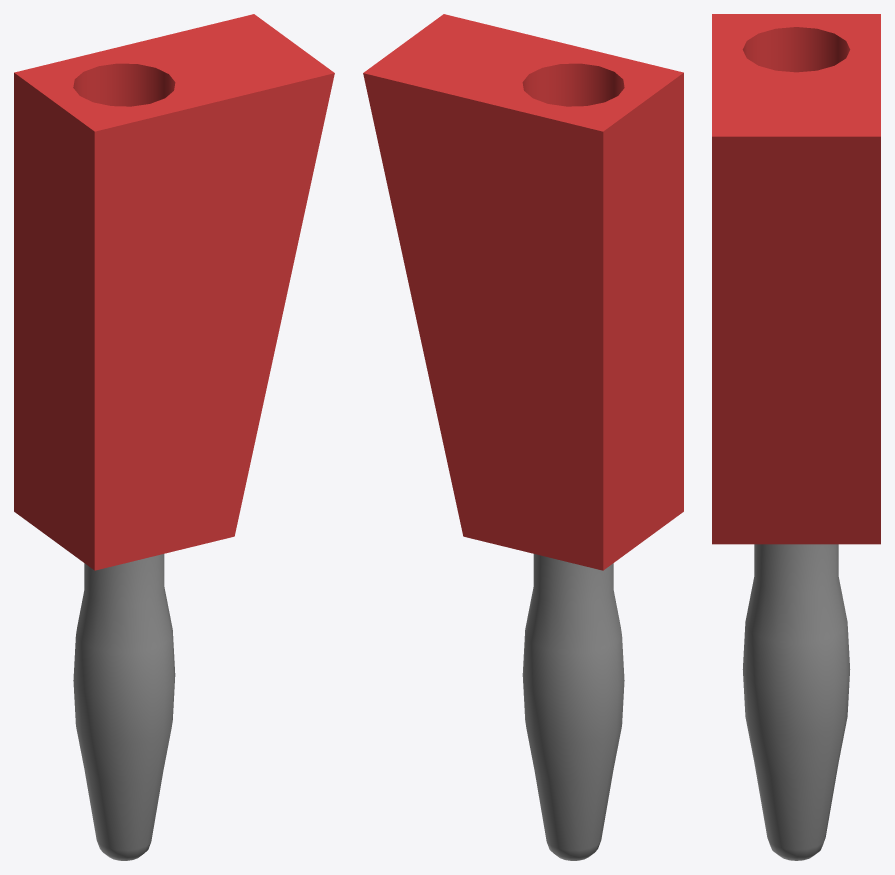
File: штекер.fbx
3 renders of one model, left to right at view 1: azimuth 30°, elevation 25°; view 2: azimuth 150°, elevation 25°; view 3: azimuth 270°, elevation 25°, orthographic. The views are drawn at different scales.
Visible parts, largest first — view 1: Cube; view 2: Cube; view 3: Cube.
Boxes of the visible parts, x1=… form: Cube: x1=14, y1=14, x2=334, y2=860; Cube: x1=363, y1=14, x2=683, y2=860; Cube: x1=712, y1=14, x2=880, y2=860.
Size of the model in its own units: 34.34 by 106 by 20.
